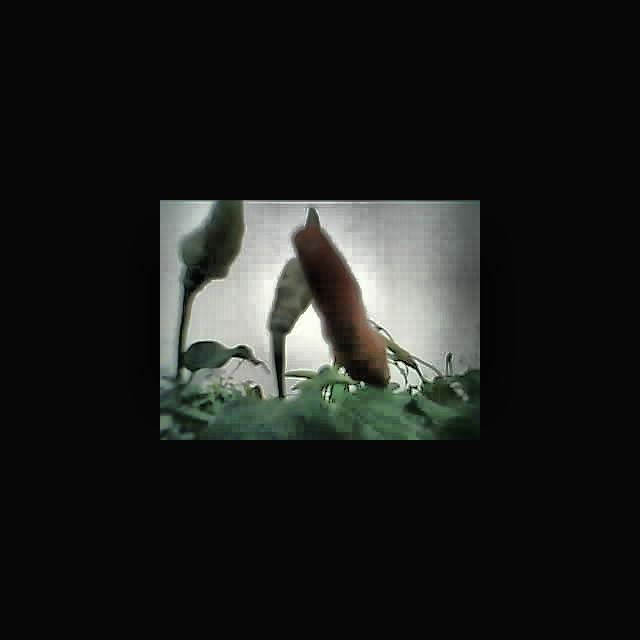Cabai: (307, 231, 391, 380)
